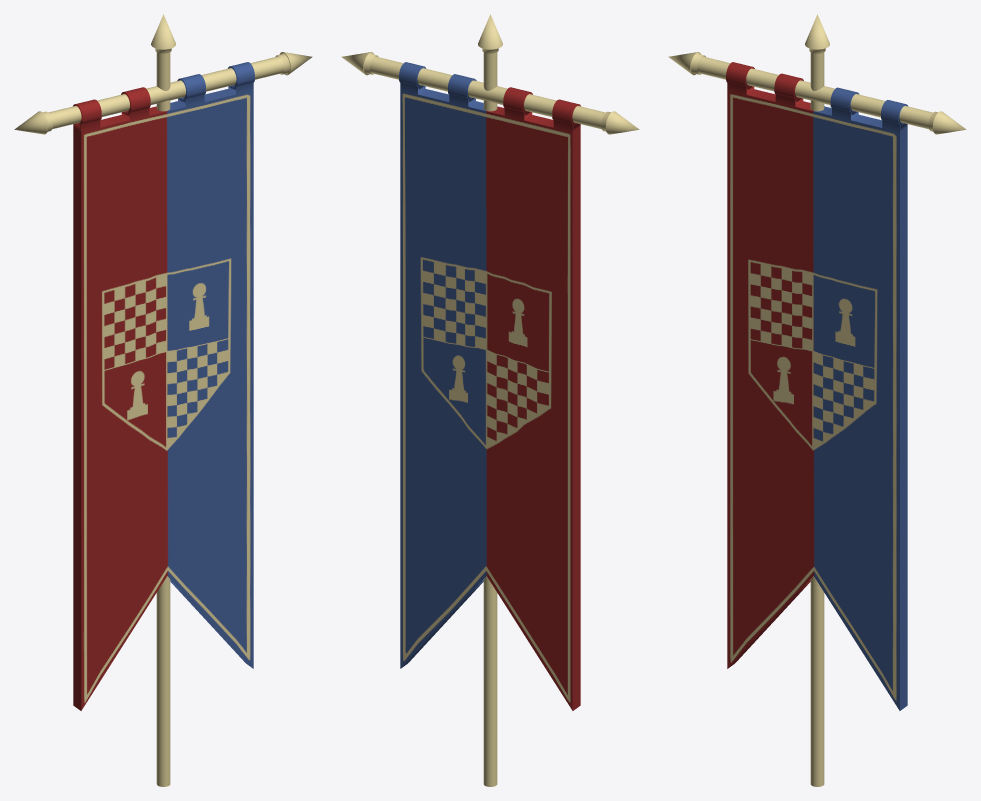
The model's file is Flag.fbx.
3 views of the same model, side by side, from view 1: azimuth 30°, elevation 25°; view 2: azimuth 150°, elevation 25°; view 3: azimuth 330°, elevation 25° (orthographic).
Visible parts, largest first — view 1: pCylinder4; view 2: pCylinder4; view 3: pCylinder4.
Part boxes in pixels (left/top/right/bottom): pCylinder4: left=14, top=14, right=312, bottom=786; pCylinder4: left=341, top=14, right=639, bottom=786; pCylinder4: left=668, top=14, right=966, bottom=786.
Size of the model in its own units: 79.68 by 196 by 5.84.
Materials: 1 (1 with a texture image).
